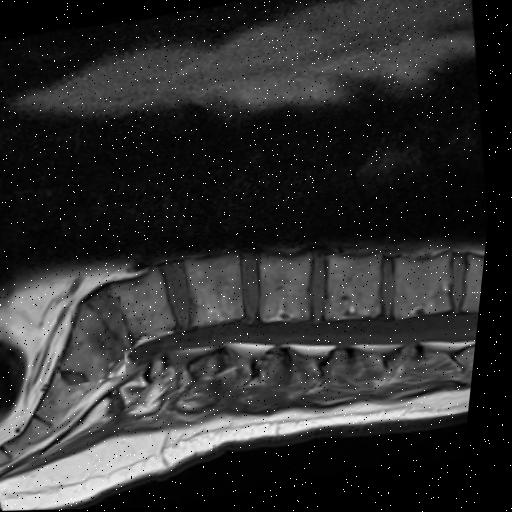L1: (397, 256, 455, 322)
L2: (328, 254, 386, 324)
L3: (263, 254, 317, 323)
L4: (189, 259, 250, 327)
L5: (115, 269, 181, 342)
S1: (67, 303, 131, 383)
